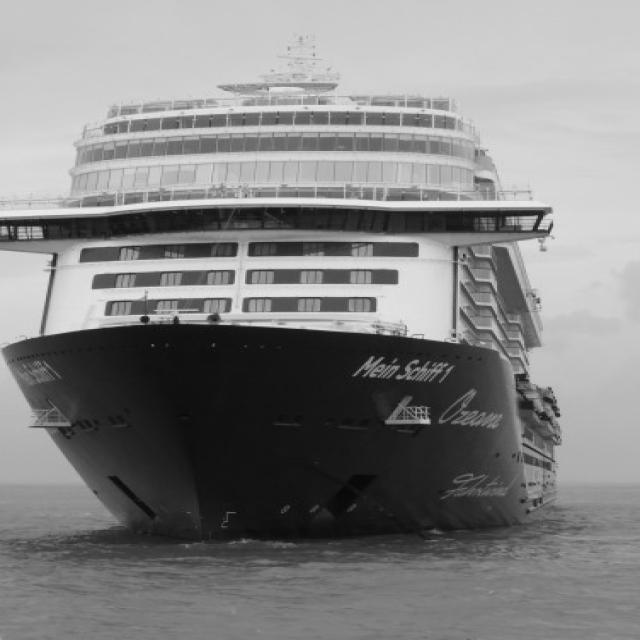cruises: (1, 38, 588, 549)
